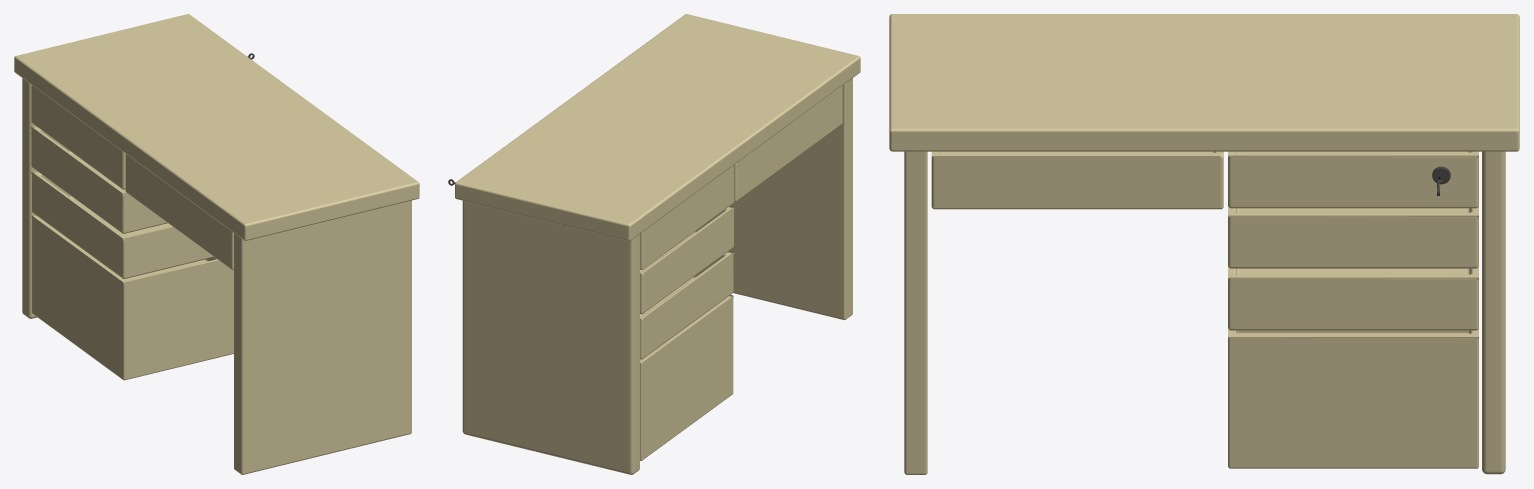
The model's file is desk_and_key.fbx.
3 renders of one model, left to right at view 1: azimuth 30°, elevation 25°; view 2: azimuth 150°, elevation 25°; view 3: azimuth 270°, elevation 25°, orthographic. The views are drawn at different scales.
Visible parts, largest first — view 1: Cube, Cube.002, Cube.007, Cube.003, Cube.005, Cube.001, Cube.008, Cube.004; view 2: Cube, Cube.004, Cube.002, Cube.007, Cube.003, Cube.001, Cube.005, Cube.008; view 3: Cube, Cube.007, Cube.001, Cube.003, Cube.005, Cube.008, Cube.002, Cube.004.
Boxes of the visible parts, bbox=[...] form: Cube: bbox=[14, 14, 419, 240]; Cube.002: bbox=[234, 200, 411, 474]; Cube.007: bbox=[31, 214, 233, 380]; Cube.003: bbox=[31, 170, 214, 278]; Cube.005: bbox=[31, 125, 167, 233]; Cube.001: bbox=[125, 154, 233, 269]; Cube.008: bbox=[31, 85, 125, 189]; Cube.004: bbox=[22, 78, 37, 318]; Cube: bbox=[455, 14, 860, 240]; Cube.004: bbox=[462, 201, 639, 474]; Cube.002: bbox=[730, 78, 852, 320]; Cube.007: bbox=[640, 295, 733, 460]; Cube.003: bbox=[640, 250, 734, 359]; Cube.001: bbox=[734, 85, 842, 201]; Cube.005: bbox=[640, 205, 734, 314]; Cube.008: bbox=[640, 165, 733, 269]; Cube: bbox=[889, 14, 1519, 151]; Cube.007: bbox=[1228, 328, 1478, 468]; Cube.001: bbox=[931, 151, 1223, 209]; Cube.003: bbox=[1228, 266, 1478, 330]; Cube.005: bbox=[1228, 206, 1478, 268]; Cube.008: bbox=[1228, 151, 1478, 208]; Cube.002: bbox=[904, 151, 927, 474]; Cube.004: bbox=[1482, 151, 1505, 474].
Bounding box in the file's own units: 4.62 × 5.35 × 8.78.
